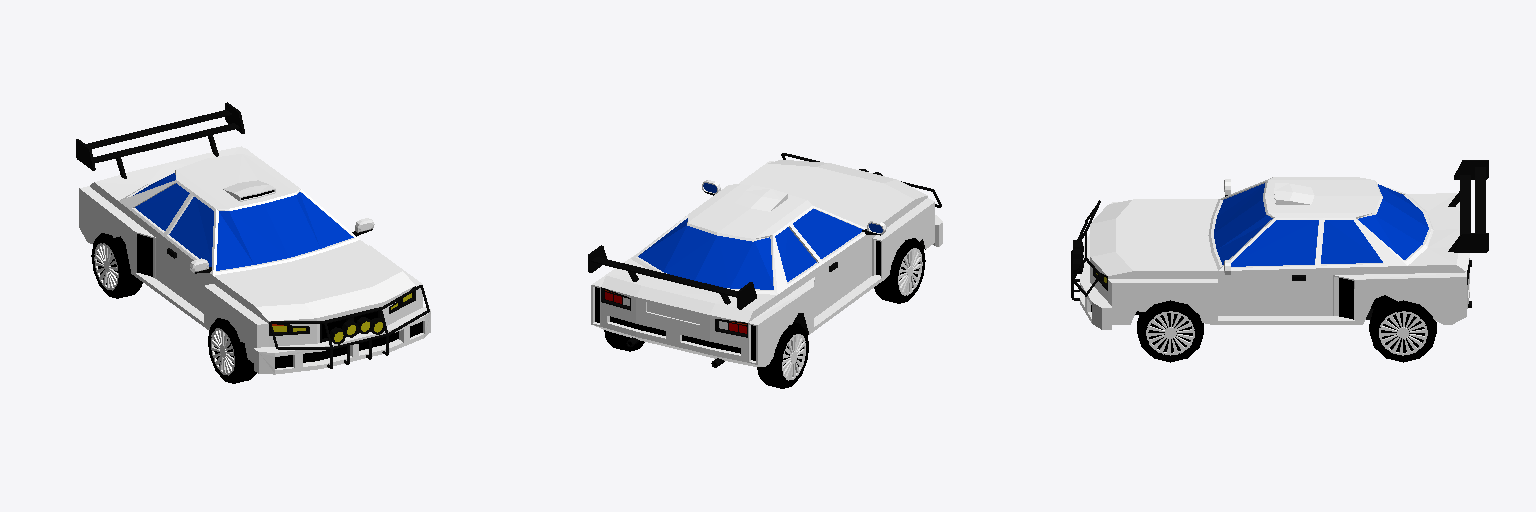
Rendered from car.obj.
3 views of the same model, side by side, from view 1: azimuth 30°, elevation 25°; view 2: azimuth 150°, elevation 25°; view 3: azimuth 270°, elevation 25° (orthographic).
Visible parts, largest first — view 1: Sport2_Cube.006; view 2: Sport2_Cube.006; view 3: Sport2_Cube.006.
Boxes of the visible parts, x1=… form: Sport2_Cube.006: x1=76, y1=102, x2=430, y2=383; Sport2_Cube.006: x1=588, y1=153, x2=942, y2=388; Sport2_Cube.006: x1=1071, y1=160, x2=1488, y2=362.
Size of the model in its own units: 1.49 by 1.02 by 2.95.